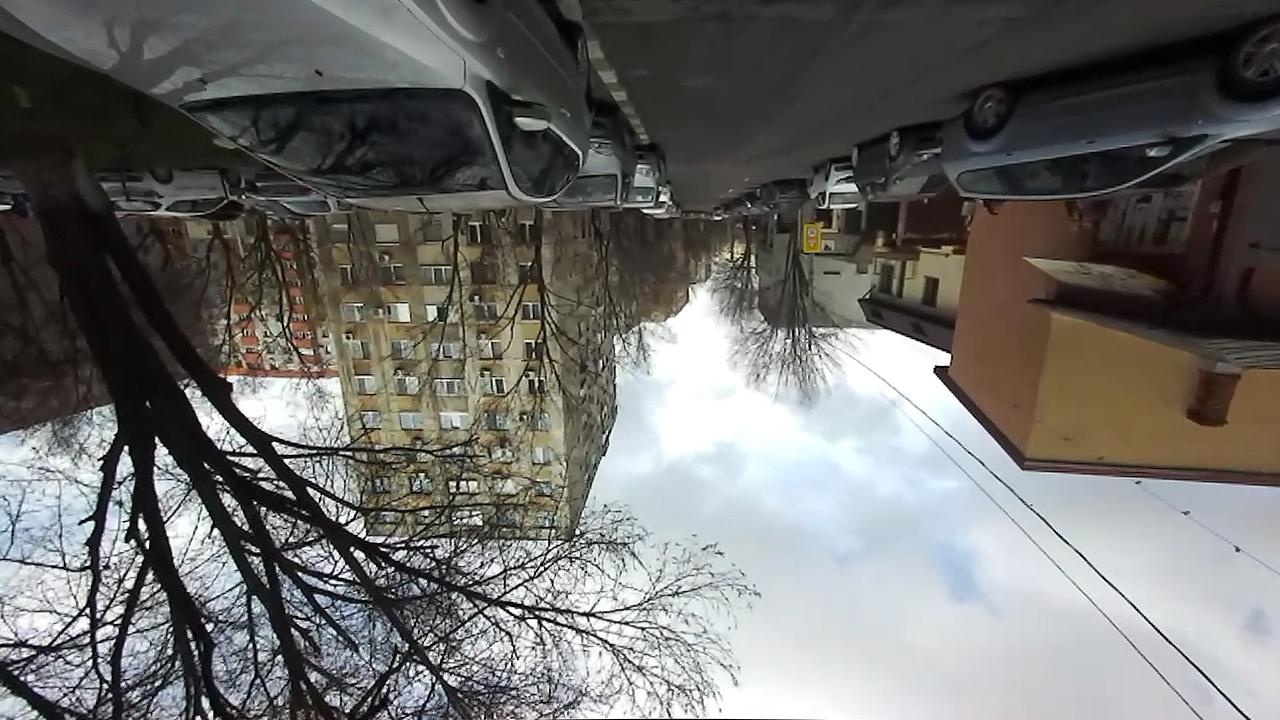pothole: (667, 0, 776, 30)
